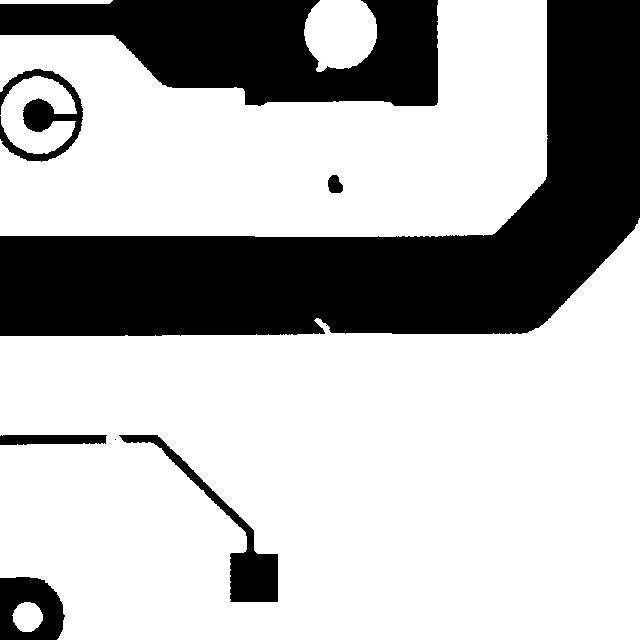copper: (318, 165, 352, 202)
mousebite: (304, 308, 342, 347), (306, 51, 336, 81)
open: (93, 420, 133, 457)
short: (32, 104, 88, 133)
